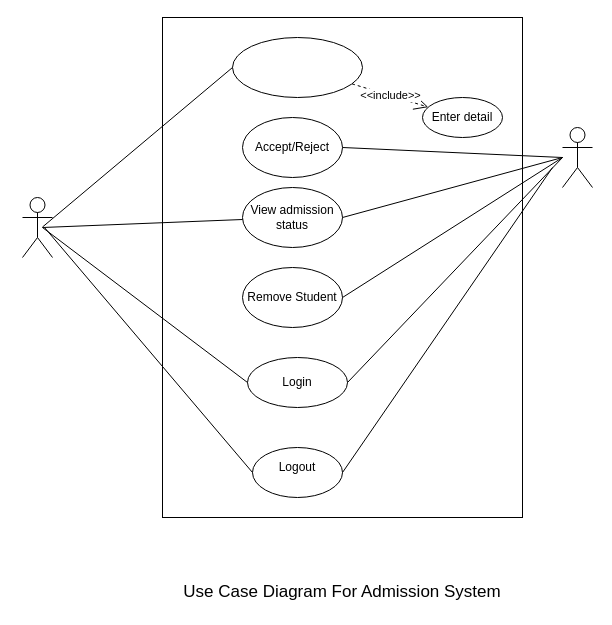
This 612x625 diagram has some shape labels left out. The shapes that lost their labels are listed below. From the top down, each one's box as (x1, y1, x2, y2) in pixels, then its label:
(232, 36, 362, 98): Admission/ Registration Form
(562, 126, 592, 188): Admin
(22, 196, 52, 258): Student
